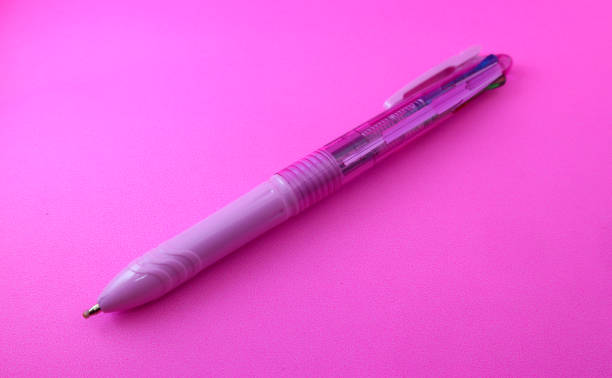pen: (72, 42, 525, 327)
